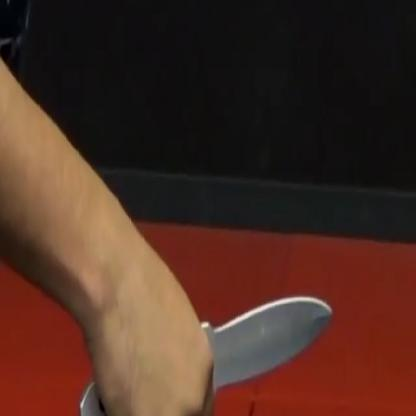knife: (70, 275, 340, 415)
